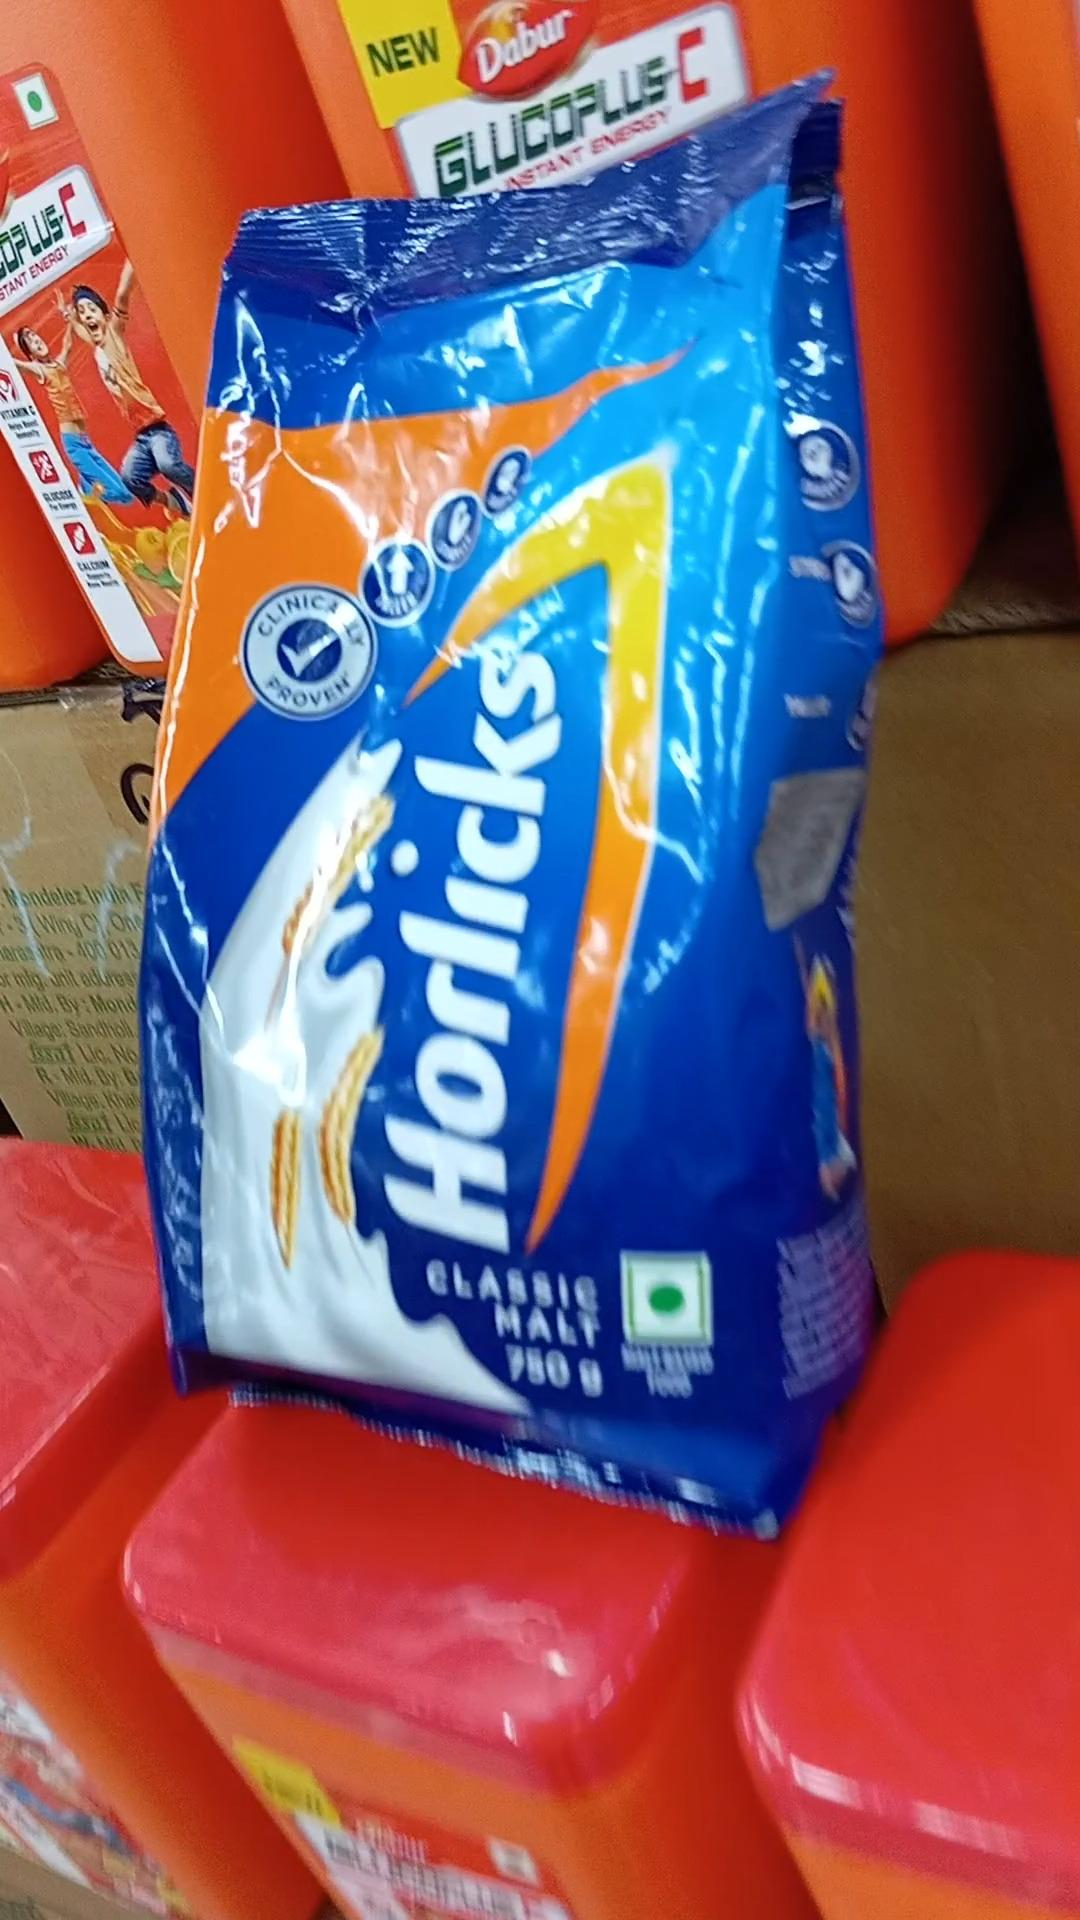HORLICK_CLASSIC_MALT_750_G_POUCH: (165, 117, 814, 1535)
